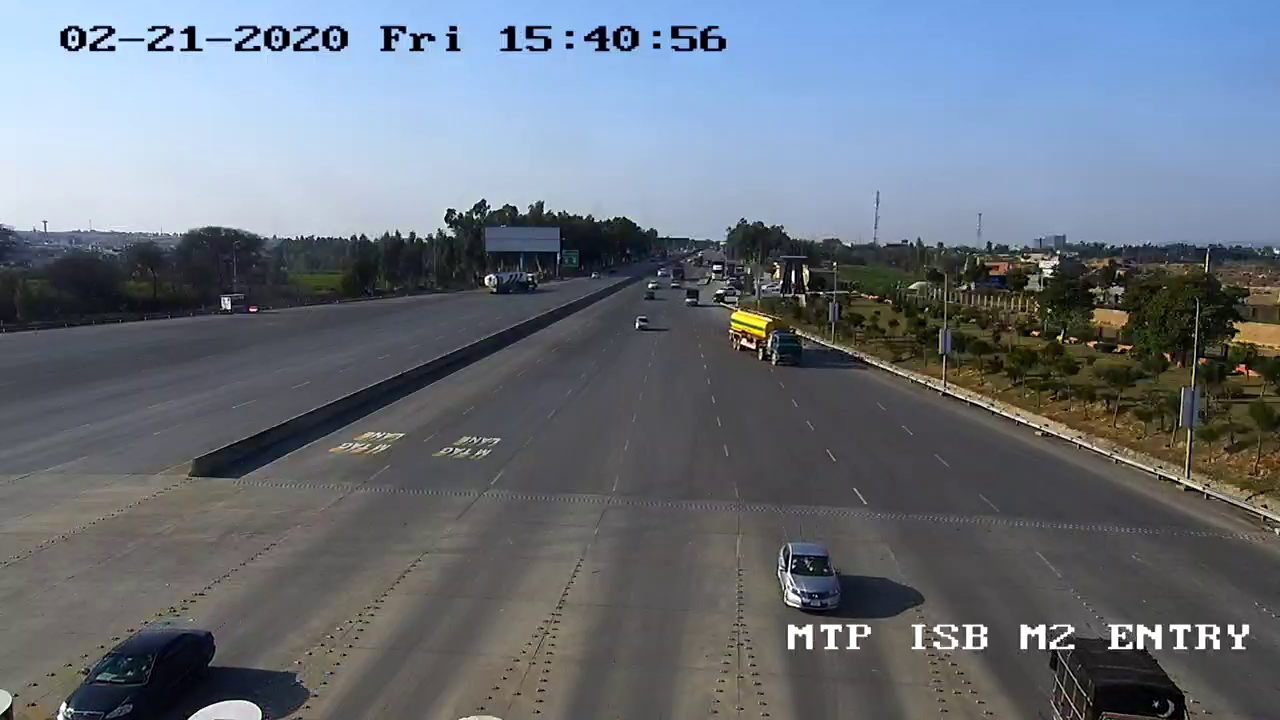f1: (767, 535, 852, 624)
